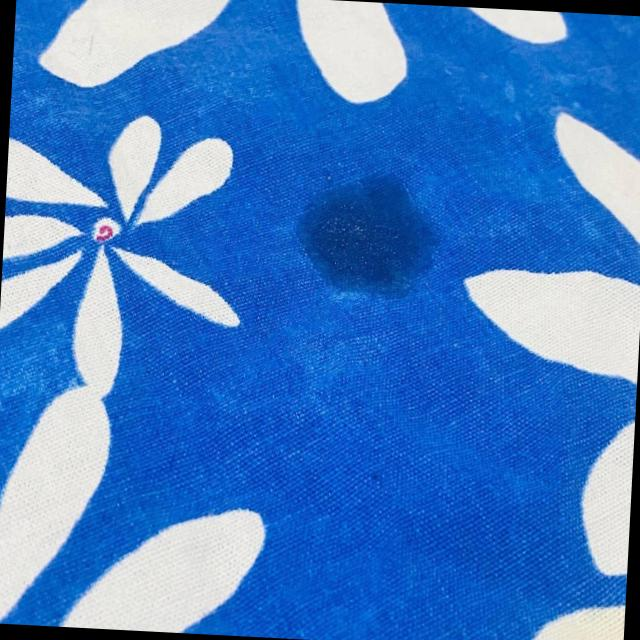stain: (298, 158, 441, 316)
